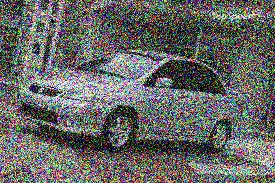car: (13, 47, 259, 161)
